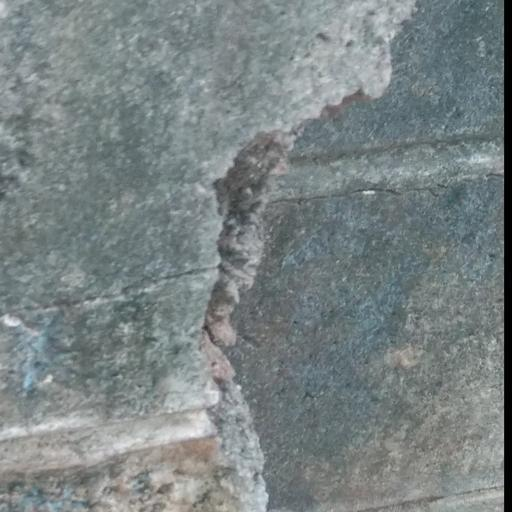spalling: (190, 3, 512, 512)
